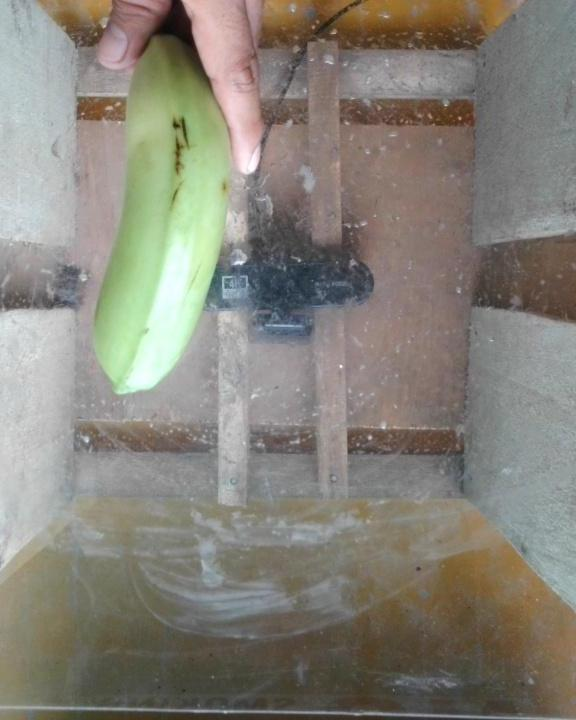CLASS B: (80, 30, 238, 403)
Class A: (165, 112, 193, 204), (215, 171, 230, 196)
